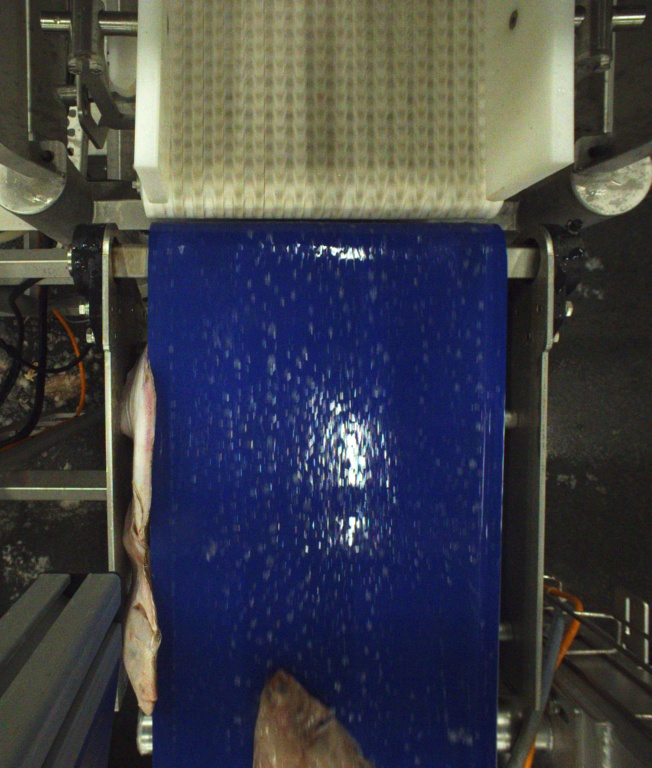WIT: (253, 668, 371, 768)
